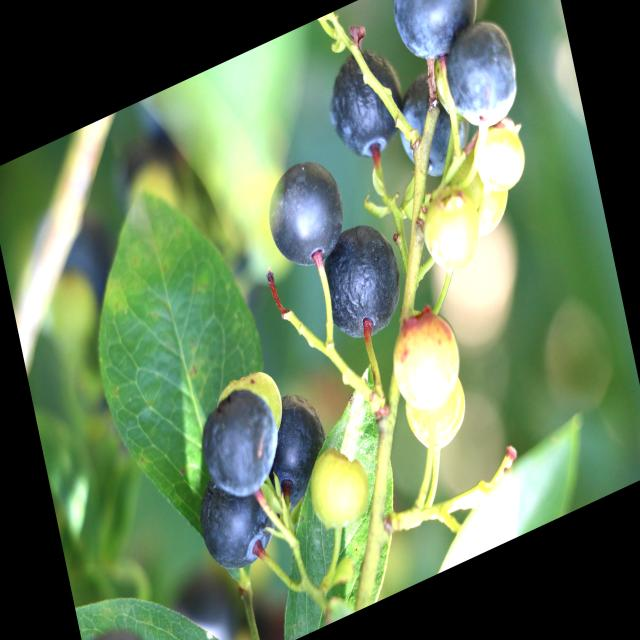blueberry: (309, 209, 409, 357), (258, 144, 356, 284), (436, 2, 528, 144), (319, 35, 412, 172), (197, 378, 285, 514), (186, 459, 280, 585), (391, 57, 476, 191), (258, 380, 334, 518), (383, 0, 491, 71)
blueberry-unripe: (388, 299, 469, 421), (304, 436, 376, 542), (443, 143, 516, 245), (398, 369, 477, 462), (415, 180, 483, 281), (468, 110, 530, 200)
